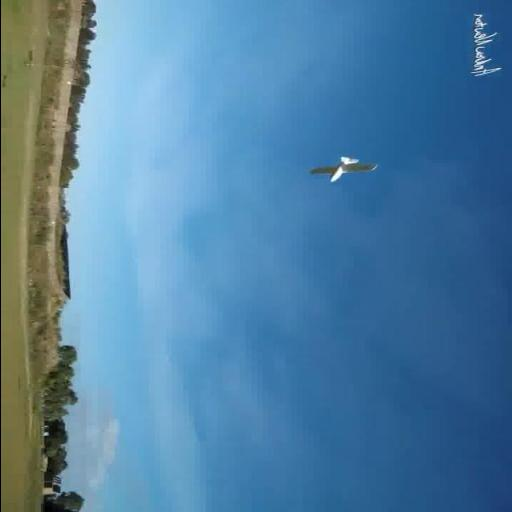uav: (274, 132, 394, 200)
